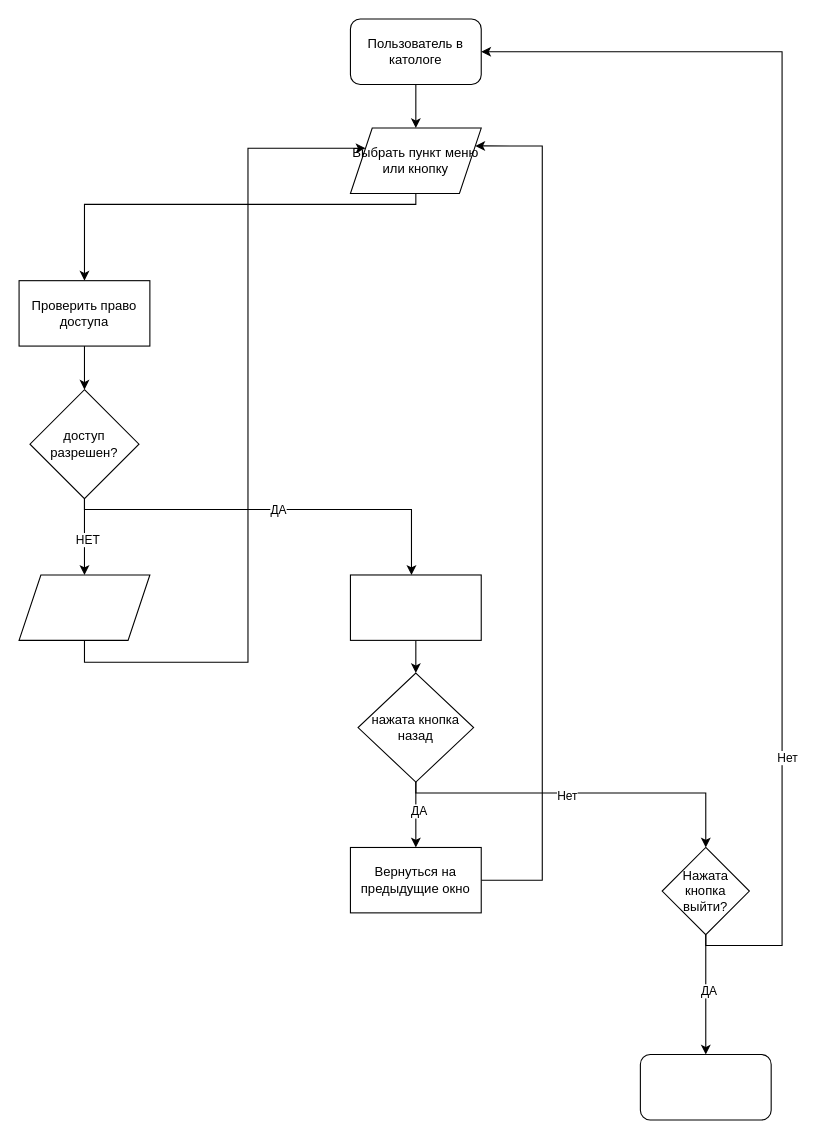
This 816x1139 diagram has some shape labels left out. Here are the shapes that lost their labels. From the top down, the box of each, then its label:
(18, 574, 150, 640): Запрет действий
(349, 574, 481, 640): открыть окно с заголовком
(639, 1053, 771, 1120): окно входа
